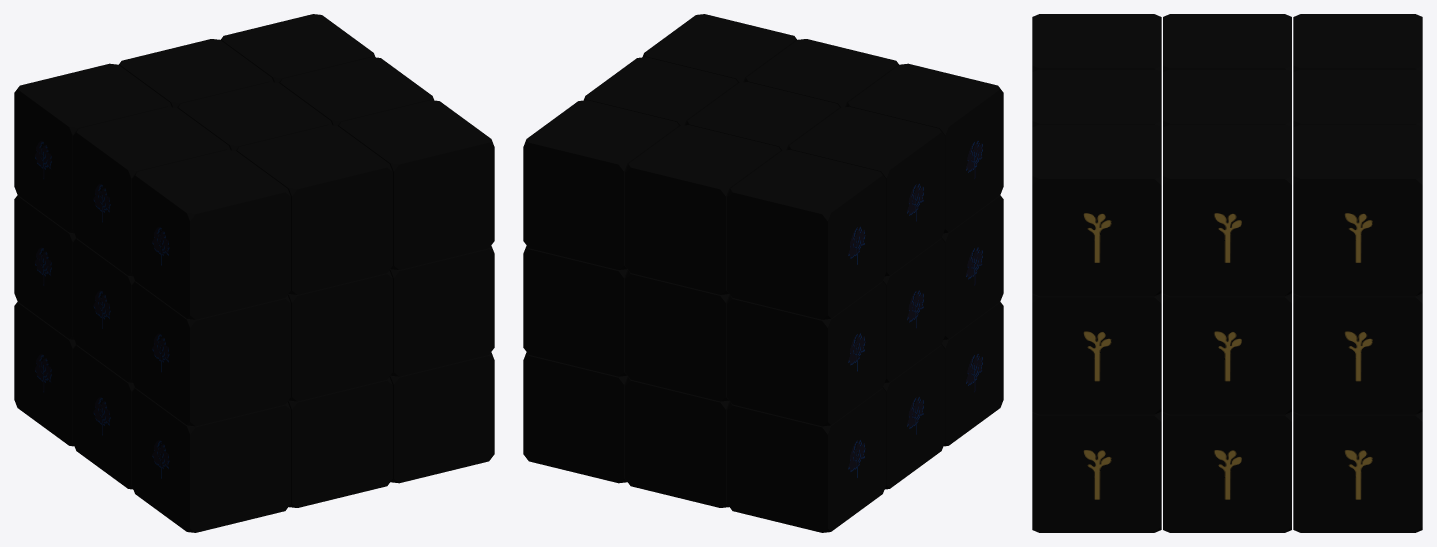
Rendered from Cameralight.glb.
3 renders of one model, left to right at view 1: azimuth 30°, elevation 25°; view 2: azimuth 150°, elevation 25°; view 3: azimuth 270°, elevation 25°, orthographic. The views are drawn at different scales.
Parts seen in each view (by area): view 1: CenteredCube.020, CenteredCube.011, CenteredCube.002, CenteredCube.019, CenteredCube.018, CenteredCube.026, CenteredCube.023, CenteredCube.009, CenteredCube, CenteredCube.010, CenteredCube.001, CenteredCube.017 (+7 smaller); view 2: CenteredCube.026, CenteredCube.017, CenteredCube.008, CenteredCube.025, CenteredCube.024, CenteredCube.020, CenteredCube.023, CenteredCube.015, CenteredCube.006, CenteredCube.016, CenteredCube.007, CenteredCube.011 (+7 smaller); view 3: CenteredCube.018, CenteredCube.024, CenteredCube.021, CenteredCube, CenteredCube.006, CenteredCube.009, CenteredCube.015, CenteredCube.003, CenteredCube.012, CenteredCube.019, CenteredCube.025, CenteredCube.020 (+3 smaller).
Part boxes in pixels (x1,y1,x2,y2): CenteredCube.020: (132, 149, 290, 319); CenteredCube.011: (132, 281, 290, 426); CenteredCube.002: (132, 388, 290, 532); CenteredCube.019: (236, 125, 392, 294); CenteredCube.018: (338, 100, 494, 269); CenteredCube.026: (14, 63, 171, 233); CenteredCube.023: (73, 106, 230, 276); CenteredCube.009: (389, 245, 494, 376); CenteredCube: (389, 352, 494, 483); CenteredCube.010: (288, 270, 392, 401); CenteredCube.001: (287, 377, 392, 507); CenteredCube.017: (14, 195, 76, 339); CenteredCube.026: (727, 149, 885, 319); CenteredCube.017: (727, 281, 885, 426); CenteredCube.008: (727, 388, 885, 532); CenteredCube.025: (625, 125, 781, 294); CenteredCube.024: (523, 100, 679, 269); CenteredCube.020: (846, 63, 1003, 233); CenteredCube.023: (787, 106, 944, 276); CenteredCube.015: (523, 245, 628, 376); CenteredCube.006: (523, 352, 628, 483); CenteredCube.016: (625, 270, 729, 401); CenteredCube.007: (625, 377, 730, 507); CenteredCube.011: (941, 195, 1003, 339); CenteredCube.018: (1032, 124, 1161, 296); CenteredCube.024: (1293, 124, 1422, 296); CenteredCube.021: (1163, 124, 1291, 296); CenteredCube: (1032, 411, 1161, 532); CenteredCube.006: (1293, 411, 1422, 532); CenteredCube.009: (1032, 293, 1161, 414); CenteredCube.015: (1293, 293, 1422, 414); CenteredCube.003: (1163, 412, 1291, 532); CenteredCube.012: (1163, 293, 1291, 414); CenteredCube.019: (1032, 69, 1161, 127); CenteredCube.025: (1293, 69, 1422, 127); CenteredCube.020: (1032, 14, 1161, 71).
Size of what is drawn, in the model's own units: 3.02 by 3.02 by 3.02.
Materials: 1 (1 with a texture image).
